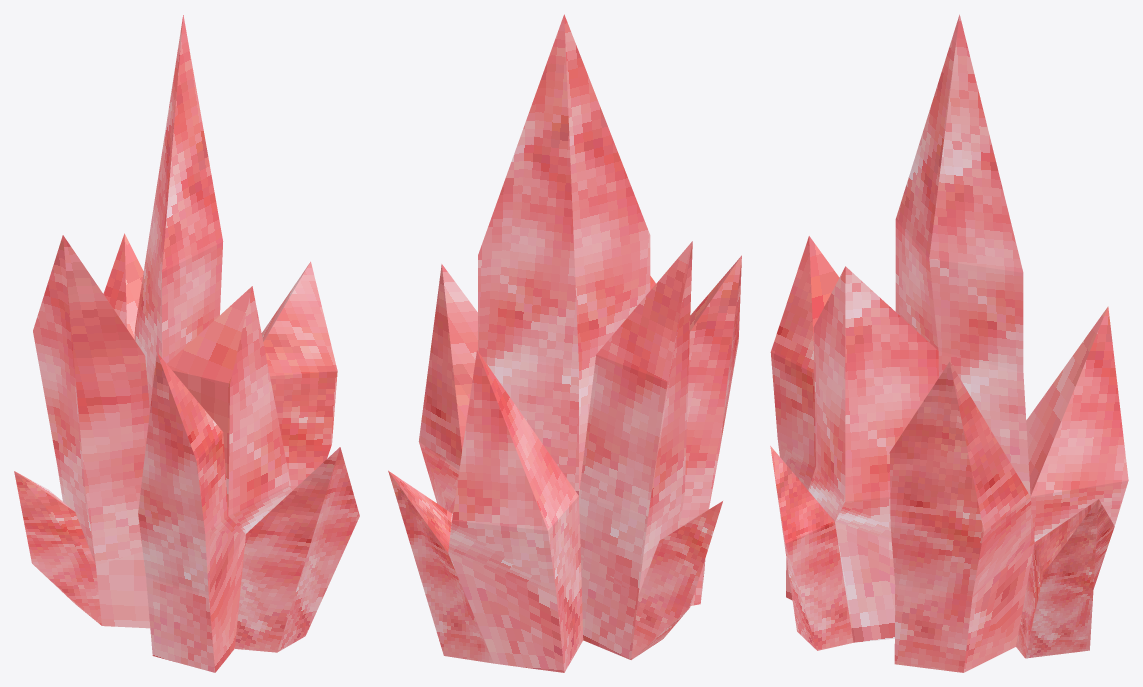
File: MineRock.glb
The picture shows the model from 3 angles, left to right: view 1: azimuth 30°, elevation 25°; view 2: azimuth 150°, elevation 25°; view 3: azimuth 270°, elevation 25°; orthographic projection. The views are drawn at different scales.
Parts seen in each view (by area): view 1: MineRock; view 2: MineRock; view 3: MineRock.
Part boxes in pixels (left/top/right/bottom): MineRock: left=14, top=15, right=359, bottom=672; MineRock: left=388, top=14, right=741, bottom=672; MineRock: left=770, top=14, right=1128, bottom=672.
Size of what is drawn, in the model's own units: 1.06 by 2.04 by 1.09.
1 material, 1 textured.
